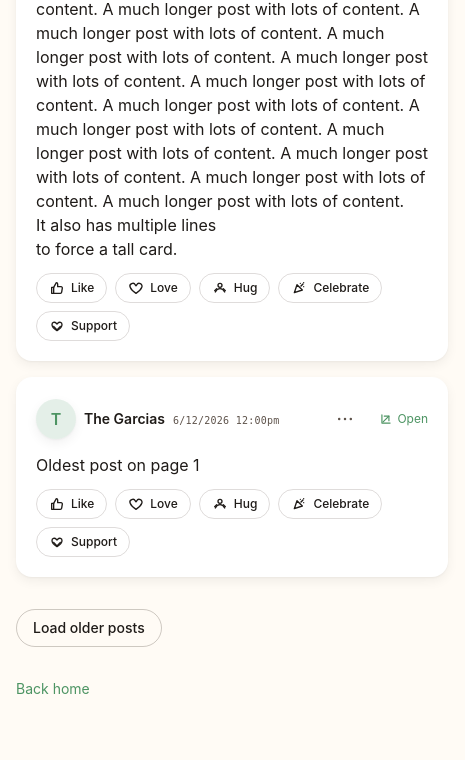
Test case: FeedPage skeleton loading (initial load only) › does not re-show the initial-load skeleton when fetching an older page via "Load older posts"
The image size is (465, 760).
(page scrolled)
Click the button "Load older posts".
click(89, 628)  # box [16, 609, 162, 647]
(page scrolled)
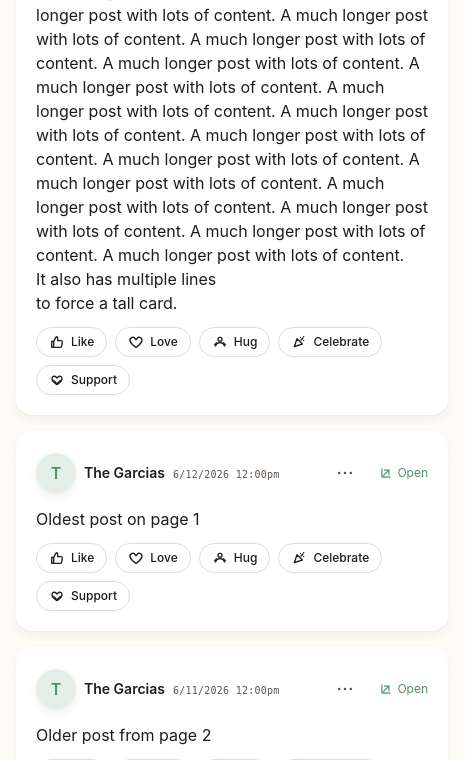
Expected: the text "Older post from page 2" is shown, [36, 725, 212, 745]
